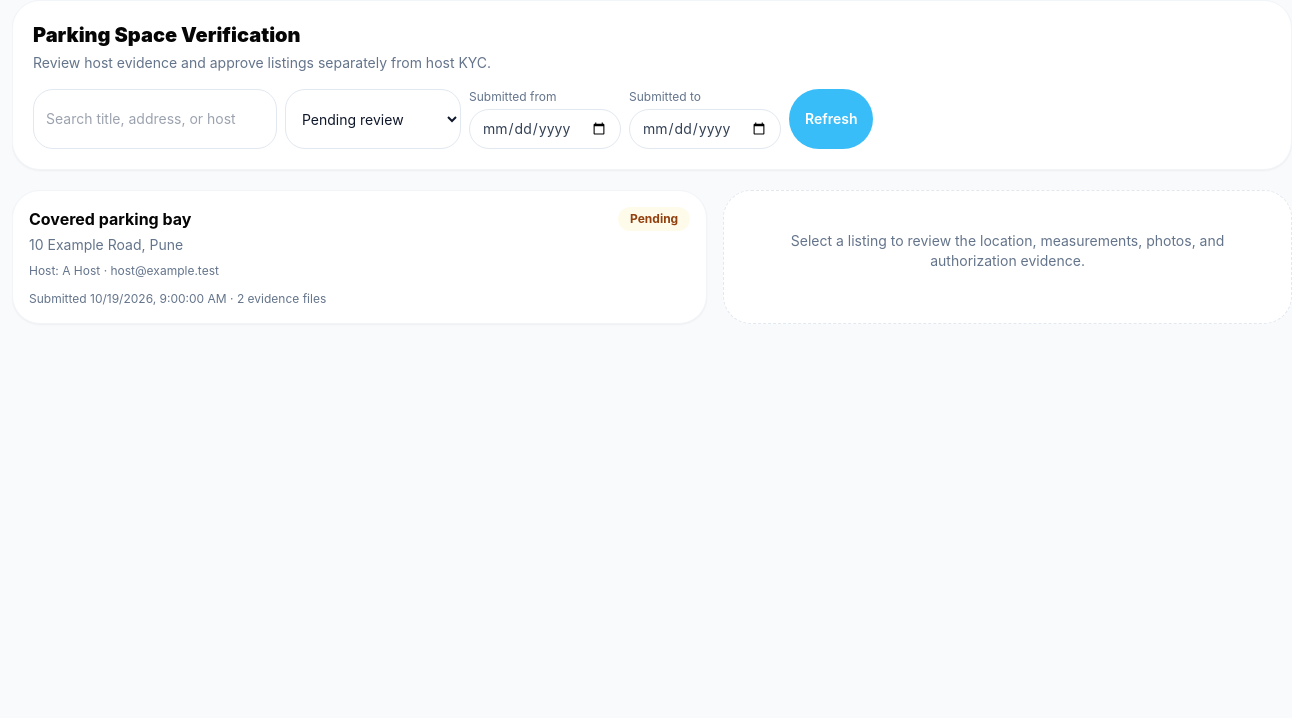
Scenario: admin must complete the property, location, and physical-space checks before approval
Click the button "Covered parking bay": [110, 219] box x1=12 y1=190 x2=707 y2=324
(page scrolled)
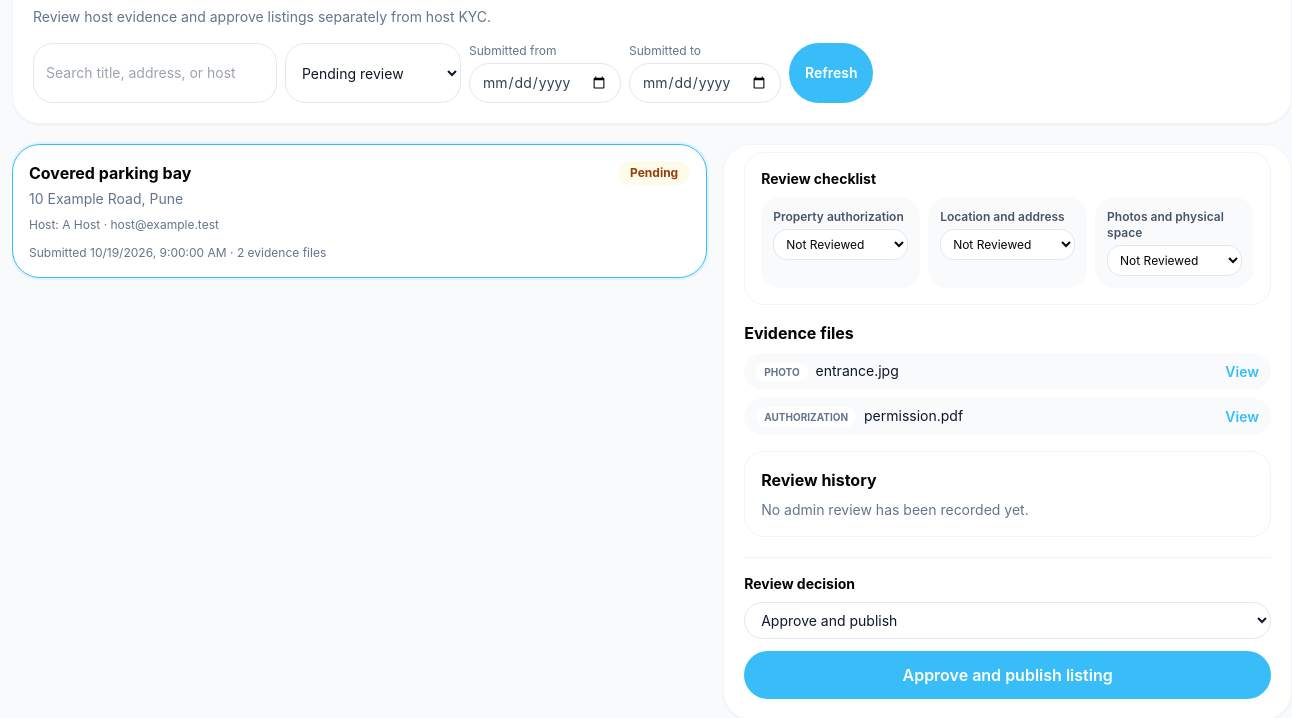
Click the button "Approve and publish listing": [1008, 675] box x1=744 y1=651 x2=1271 y2=699
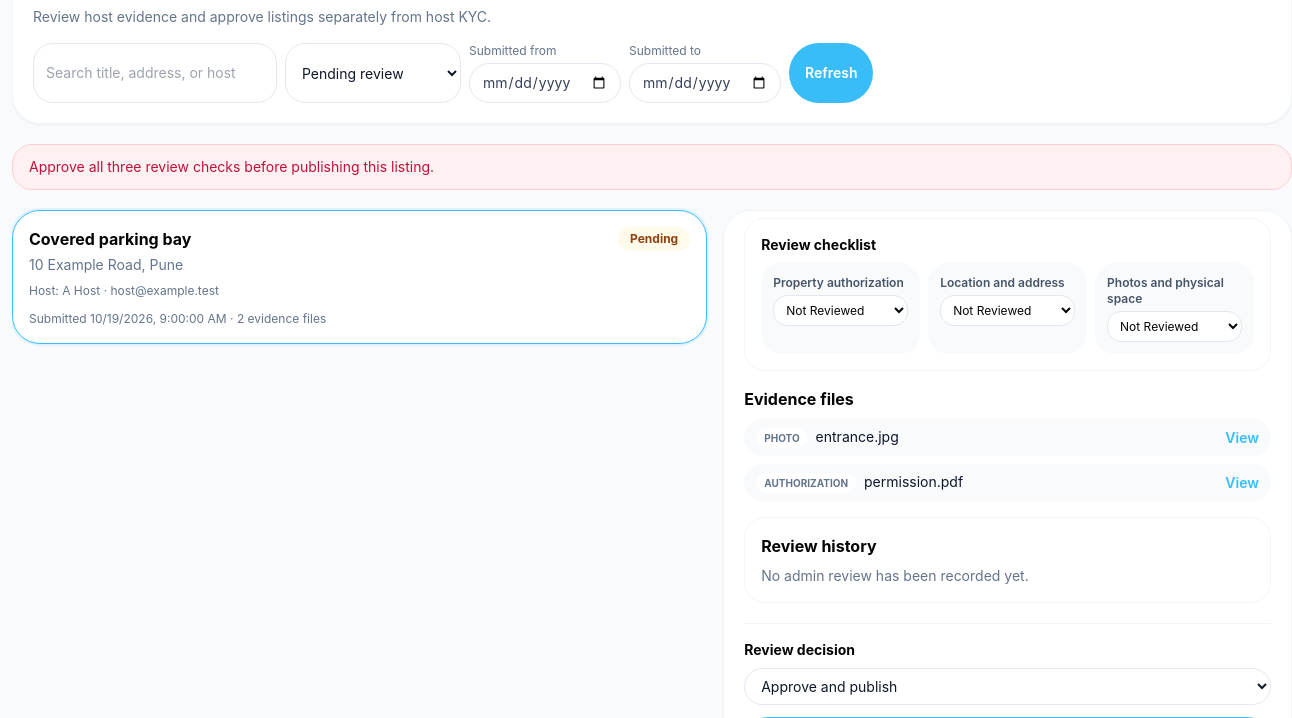
Expected: the message shows "Approve all three review checks", x1=29 y1=158 x2=434 y2=175
